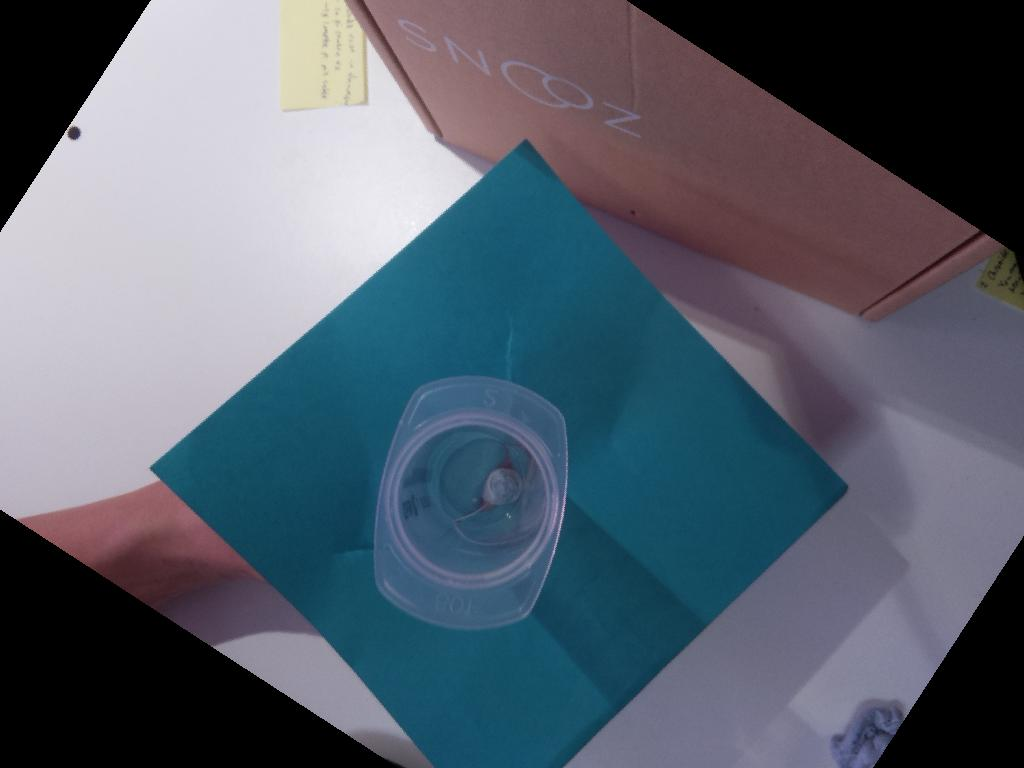clean: (372, 374, 571, 633)
